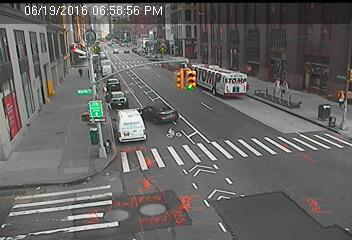neg: (92, 110, 113, 137), (184, 61, 203, 87), (17, 105, 33, 125), (159, 103, 174, 123), (73, 98, 85, 114), (46, 85, 55, 97)
pos: (268, 76, 282, 94), (282, 77, 294, 93), (75, 66, 86, 80)
